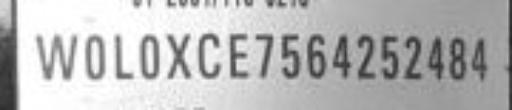letter: (34, 30, 82, 80), (224, 30, 256, 80), (80, 30, 110, 80), (302, 30, 332, 78), (162, 33, 192, 81), (250, 30, 278, 80), (327, 30, 355, 78), (196, 33, 224, 81), (136, 30, 162, 80), (352, 33, 378, 81), (400, 33, 426, 81), (110, 33, 136, 81), (276, 30, 300, 80), (376, 33, 400, 81), (424, 33, 448, 81), (444, 33, 468, 81), (470, 33, 494, 81)
